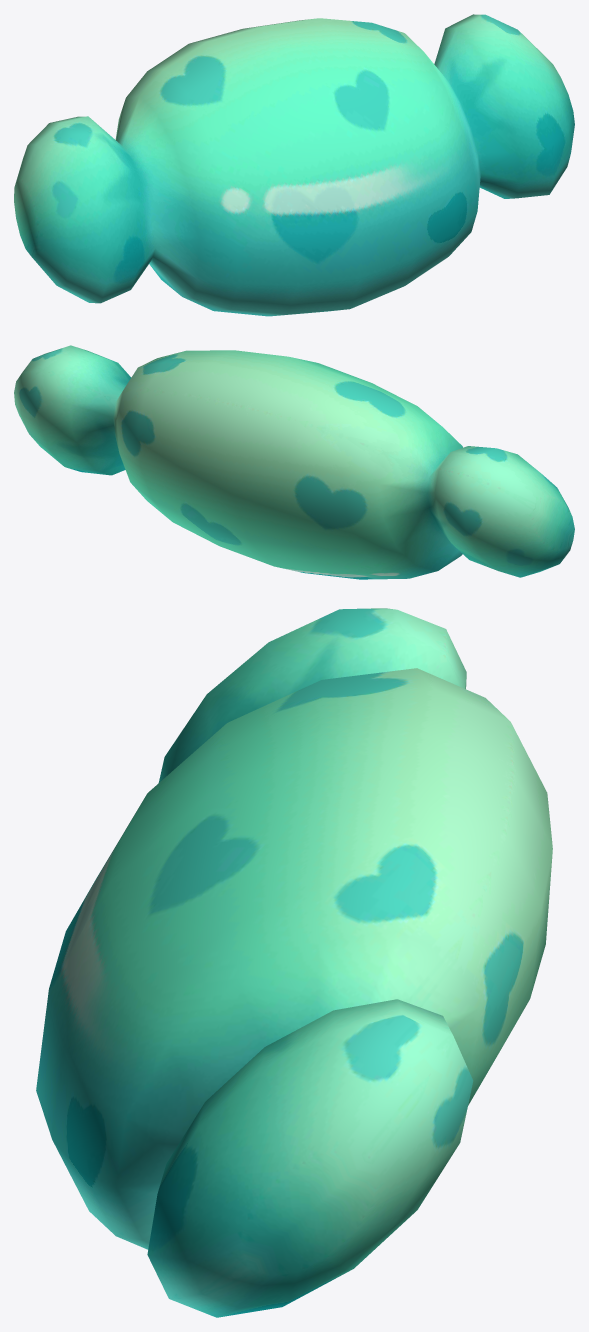
File: candies2.fbx
3 renders of one model, top to bottom at view 1: azimuth 30°, elevation 25°; view 2: azimuth 150°, elevation 25°; view 3: azimuth 270°, elevation 25°, orthographic. The views are drawn at different scales.
Parts seen in each view (by area): view 1: candies2; view 2: candies2; view 3: candies2.
Part boxes in pixels (left/top/right/bottom): candies2: left=14, top=14, right=574, bottom=316; candies2: left=14, top=345, right=574, bottom=579; candies2: left=36, top=608, right=552, bottom=1317.
Bounding box in the file's own units: 265 × 111 × 111.
Materials: 1 (1 with a texture image).
